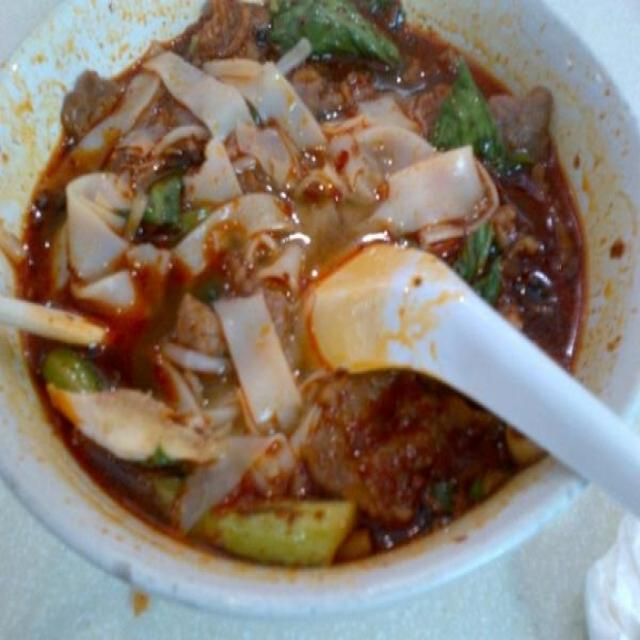面条主食: (23, 11, 609, 592)
